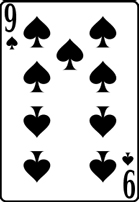nine of spades: (2, 3, 139, 200)
